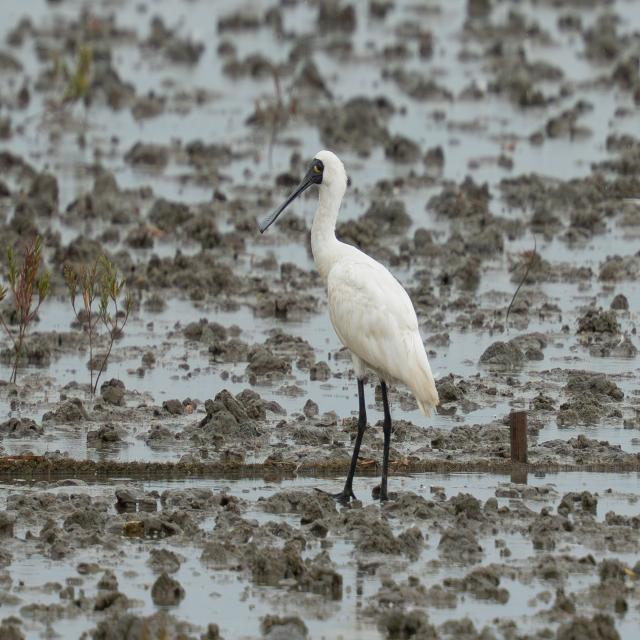Black-faced spoonbill: (260, 151, 438, 500)
